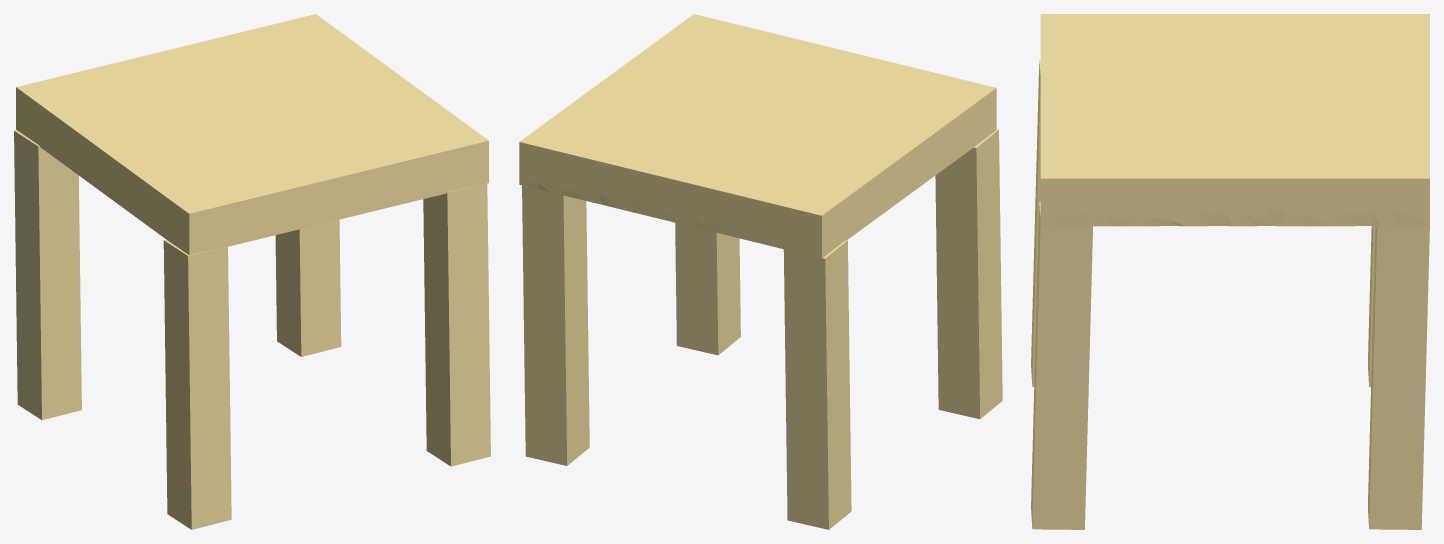
File: input.gltf
3 renders of one model, left to right at view 1: azimuth 30°, elevation 25°; view 2: azimuth 150°, elevation 25°; view 3: azimuth 270°, elevation 25°, orthographic. The views are drawn at different scales.
Parts seen in each view (by area): view 1: Renderer Node; view 2: Renderer Node; view 3: Renderer Node.
Part boxes in pixels (x1,y1,x2,y2): Renderer Node: (14, 14, 490, 529); Renderer Node: (519, 14, 1002, 529); Renderer Node: (1031, 14, 1429, 529).
Bounding box in the file's own units: 0.875 × 0.867 × 0.8884.
